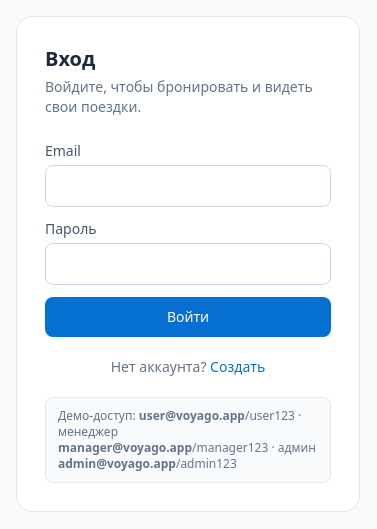
AuthPage › переключается на регистрацию и показывает поле имени
Click the button "Создать": (238, 367) [210,357,265,377]
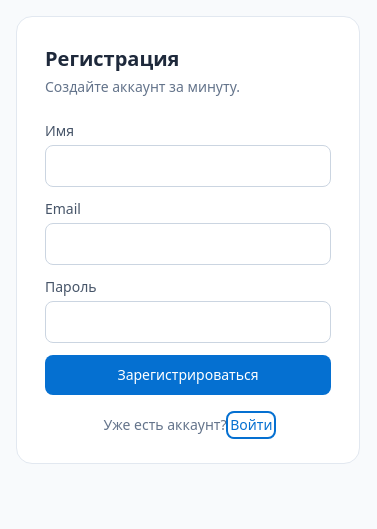
Check: the field labelled "Имя" is shown, box [45,145,331,187]
